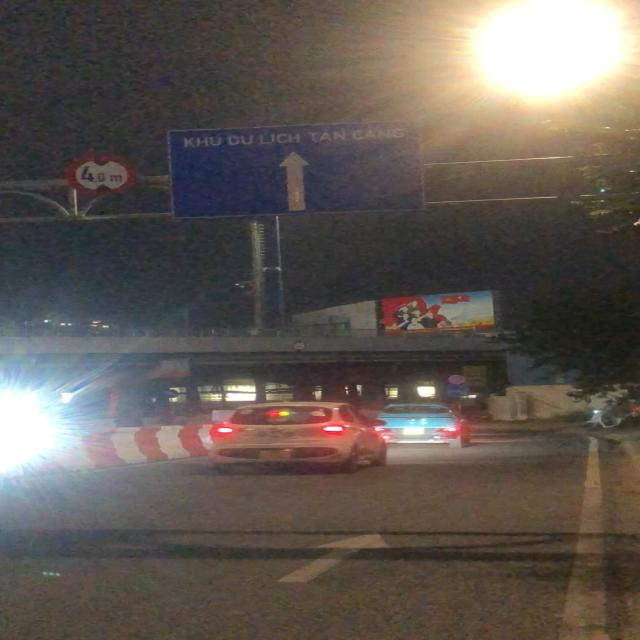Bien bao han che chieu cao: (60, 150, 138, 197)
